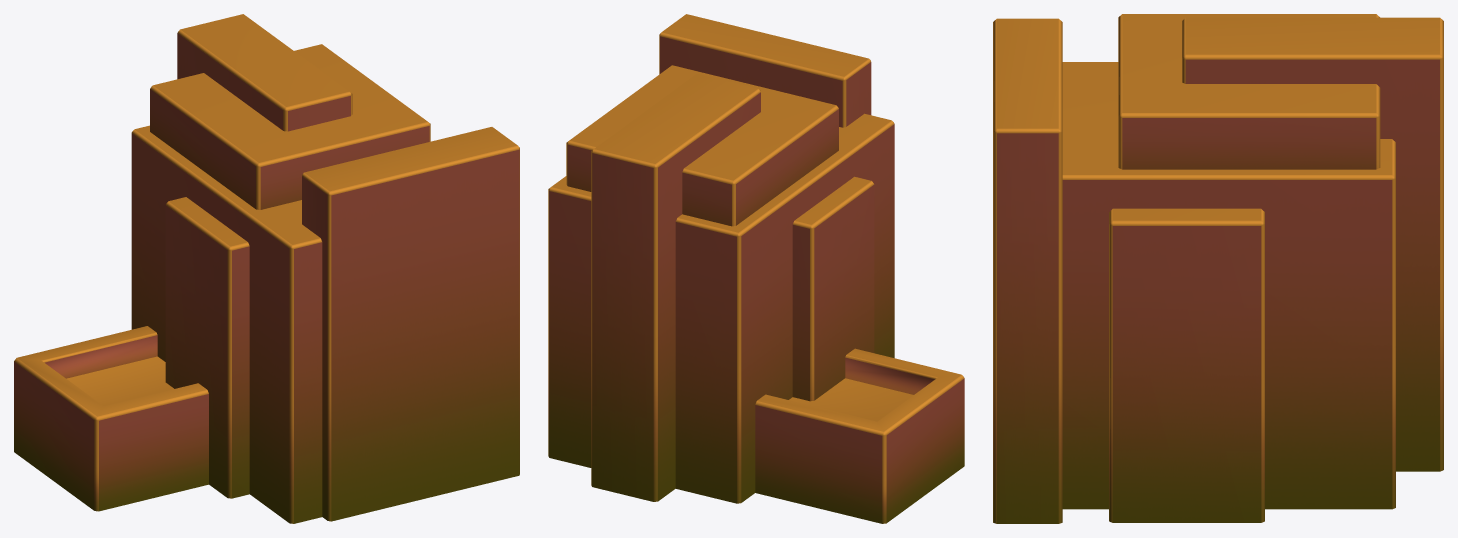
File: prop_BuildingSmall01.fbx
The picture shows the model from 3 angles, left to right: view 1: azimuth 30°, elevation 25°; view 2: azimuth 150°, elevation 25°; view 3: azimuth 270°, elevation 25°; orthographic projection. The views are drawn at different scales.
Visible parts, largest first — view 1: prop_BuildingSmall01; view 2: prop_BuildingSmall01; view 3: prop_BuildingSmall01.
Part boxes in pixels (left/top/right/bottom): prop_BuildingSmall01: left=14, top=14, right=519, bottom=523; prop_BuildingSmall01: left=548, top=14, right=964, bottom=523; prop_BuildingSmall01: left=993, top=14, right=1443, bottom=523.
Bounding box in the file's own units: 1263 × 1173 × 1152.
